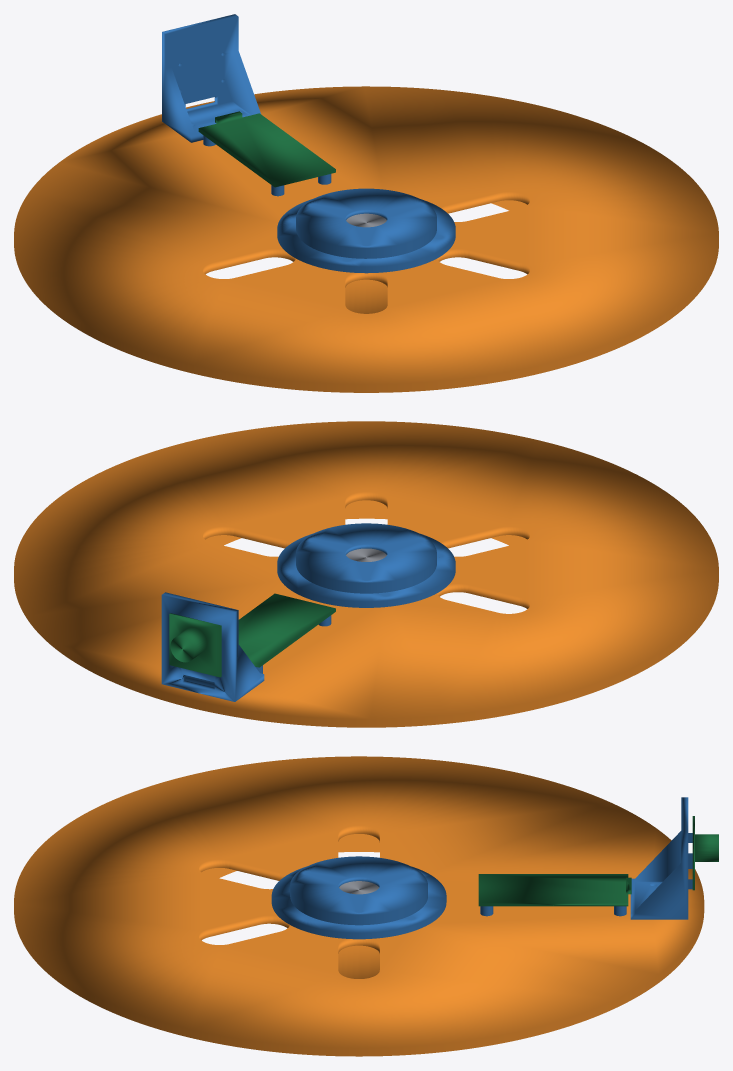
Rendered from turntable_disc.obj.
3 views of the same model, one above another, from view 1: azimuth 30°, elevation 25°; view 2: azimuth 150°, elevation 25°; view 3: azimuth 270°, elevation 25° (orthographic). The views are drawn at different scales.
Visible parts, largest first — view 1: Turntable_disc_with_GT2_ring_and_bearing_hub, Camera_mount, Slip-ring_flange_clamp, ESP32-P4-WIFI6-M_(reference), Slip-ring_carrier; view 2: Turntable_disc_with_GT2_ring_and_bearing_hub, Slip-ring_flange_clamp, Camera_mount, ESP32-P4-WIFI6-M_(reference), Slip-ring_carrier, Camera_Module_3_Wide_(reference); view 3: Turntable_disc_with_GT2_ring_and_bearing_hub, Slip-ring_flange_clamp, ESP32-P4-WIFI6-M_(reference), Camera_mount, Slip-ring_carrier, Camera_Module_3_Wide_(reference).
Boxes of the visible parts, x1=… form: Turntable_disc_with_GT2_ring_and_bearing_hub: x1=14, y1=86, x2=718, y2=392; Camera_mount: x1=162, y1=14, x2=260, y2=142; Slip-ring_flange_clamp: x1=296, y1=188, x2=436, y2=258; ESP32-P4-WIFI6-M_(reference): x1=198, y1=111, x2=335, y2=187; Slip-ring_carrier: x1=277, y1=199, x2=455, y2=273; Turntable_disc_with_GT2_ring_and_bearing_hub: x1=14, y1=421, x2=718, y2=727; Slip-ring_flange_clamp: x1=296, y1=523, x2=436, y2=593; Camera_mount: x1=161, y1=592, x2=264, y2=701; ESP32-P4-WIFI6-M_(reference): x1=238, y1=593, x2=335, y2=667; Slip-ring_carrier: x1=277, y1=533, x2=455, y2=607; Camera_Module_3_Wide_(reference): x1=169, y1=613, x2=221, y2=677; Turntable_disc_with_GT2_ring_and_bearing_hub: x1=14, y1=756, x2=704, y2=1056; Slip-ring_flange_clamp: x1=290, y1=856, x2=427, y2=925; ESP32-P4-WIFI6-M_(reference): x1=478, y1=874, x2=631, y2=906; Camera_mount: x1=630, y1=797, x2=692, y2=919; Slip-ring_carrier: x1=271, y1=866, x2=446, y2=939; Camera_Module_3_Wide_(reference): x1=692, y1=816, x2=718, y2=890.
Size of the model in its own units: 0.3 by 0.088 by 0.3064.
